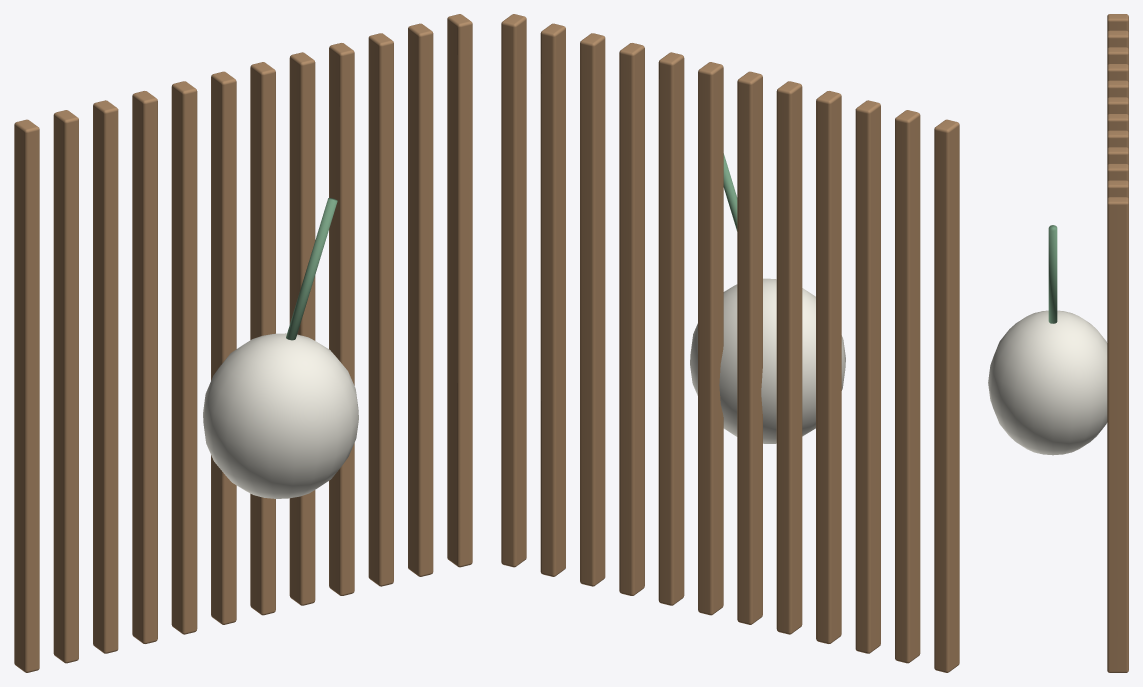
The model's file is atelier-wall-mounted-plant-holder.glb.
3 views of the same model, side by side, from view 1: azimuth 30°, elevation 25°; view 2: azimuth 150°, elevation 25°; view 3: azimuth 270°, elevation 25° (orthographic). The views are drawn at different scales.
Parts seen in each view (by area): view 1: legs.131, ceramic.032, artGreen.014; view 2: legs.131, ceramic.032; view 3: legs.131, ceramic.032, artGreen.014.
Part boxes in pixels (bbox=[...]): legs.131: bbox=[14, 14, 472, 672]; ceramic.032: bbox=[203, 333, 358, 498]; artGreen.014: bbox=[286, 198, 337, 340]; legs.131: bbox=[501, 14, 959, 672]; ceramic.032: bbox=[690, 278, 845, 443]; legs.131: bbox=[1107, 14, 1128, 672]; ceramic.032: bbox=[988, 310, 1107, 455]; artGreen.014: bbox=[1048, 225, 1057, 323].
Size of the model in its own units: 1.03 by 1.2 by 0.325.
